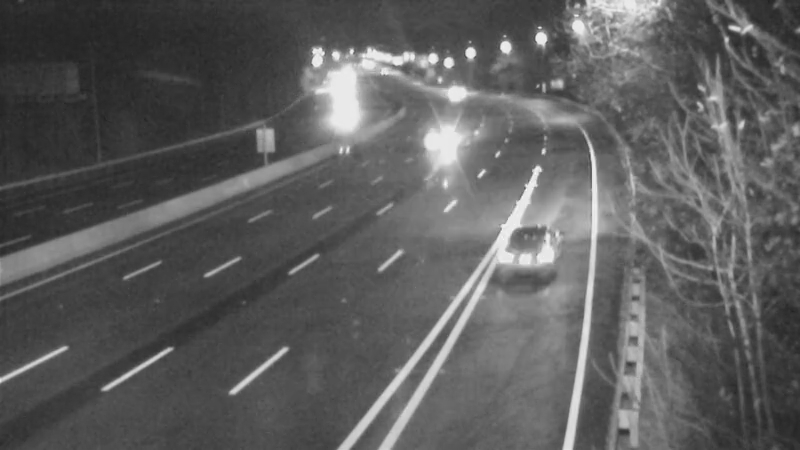vehicle: (508, 207, 588, 287), (430, 67, 480, 117), (418, 108, 468, 158), (316, 79, 366, 129)
